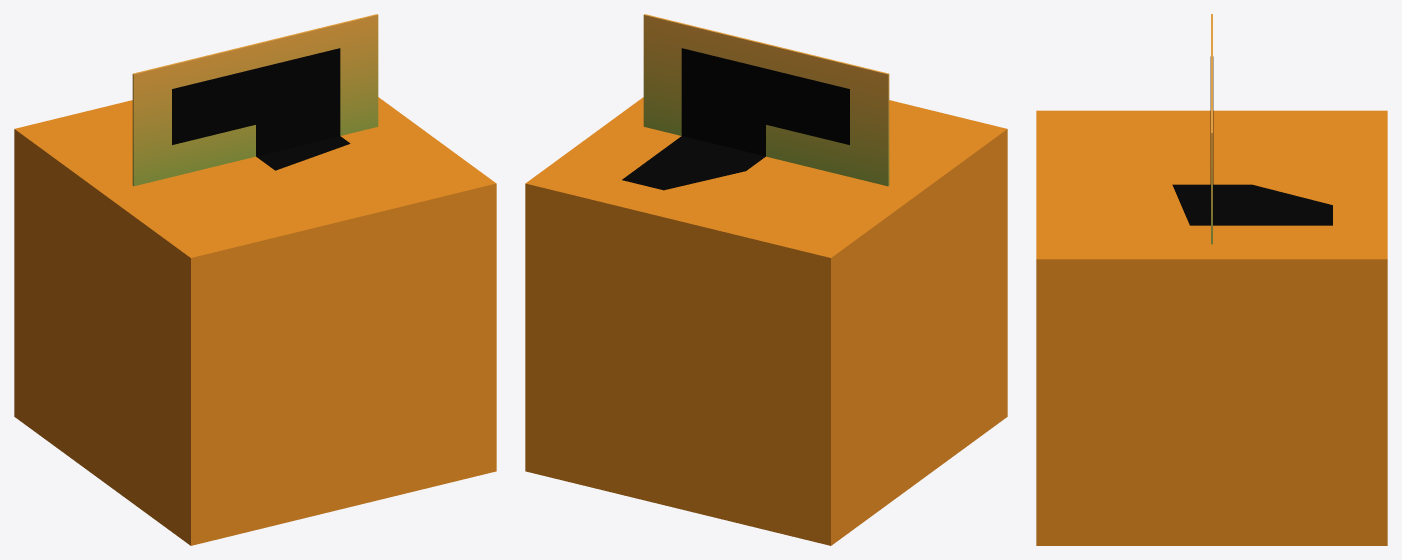
The picture shows the model from 3 angles, left to right: view 1: azimuth 30°, elevation 25°; view 2: azimuth 150°, elevation 25°; view 3: azimuth 270°, elevation 25°; orthographic projection.
Parts seen in each view (by area): view 1: block, border, dark_centre, flared_foot; view 2: block, border, dark_centre, flared_foot; view 3: block, flared_foot, border.
Part boxes in pixels (<box>): block: <box>14,97,496,545</box>; border: <box>132,14,378,186</box>; dark_centre: <box>172,48,340,156</box>; flared_foot: <box>256,136,350,170</box>; block: <box>525,97,1007,545</box>; border: <box>643,14,889,186</box>; dark_centre: <box>681,48,849,156</box>; flared_foot: <box>622,136,765,190</box>; block: <box>1036,110,1387,545</box>; flared_foot: <box>1172,184,1332,225</box>; border: <box>1211,14,1212,244</box>.
Size of the model in its own units: 0.16 by 0.2 by 0.16.
